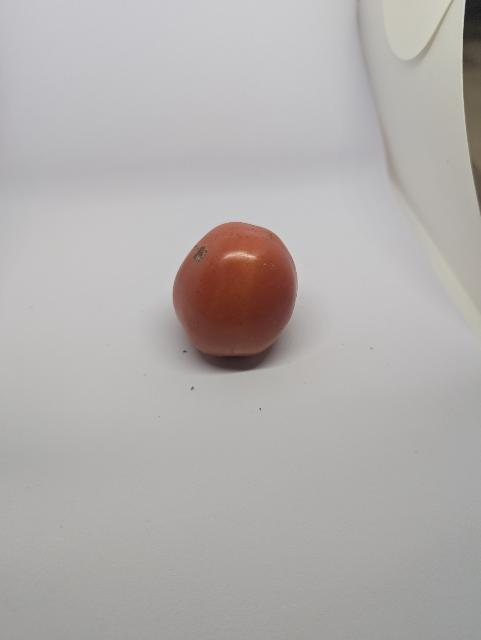red: (169, 218, 302, 362)
